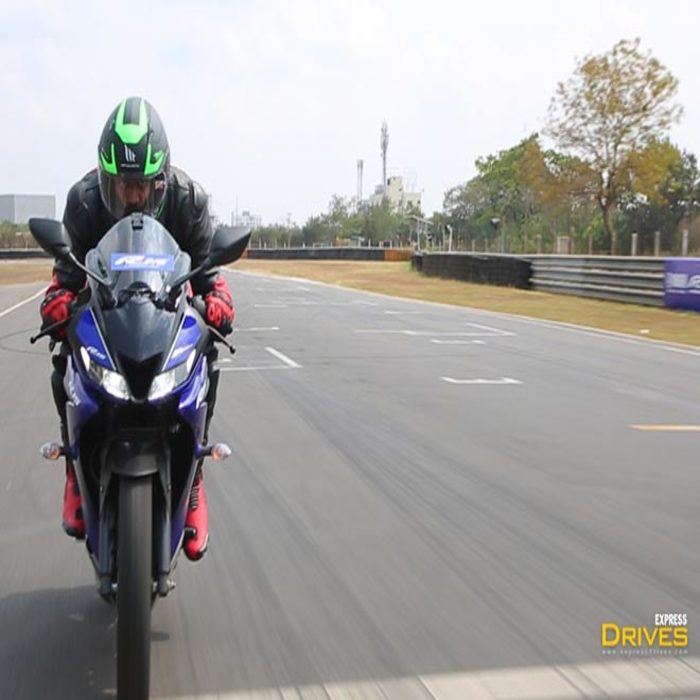h: (92, 90, 179, 229)
